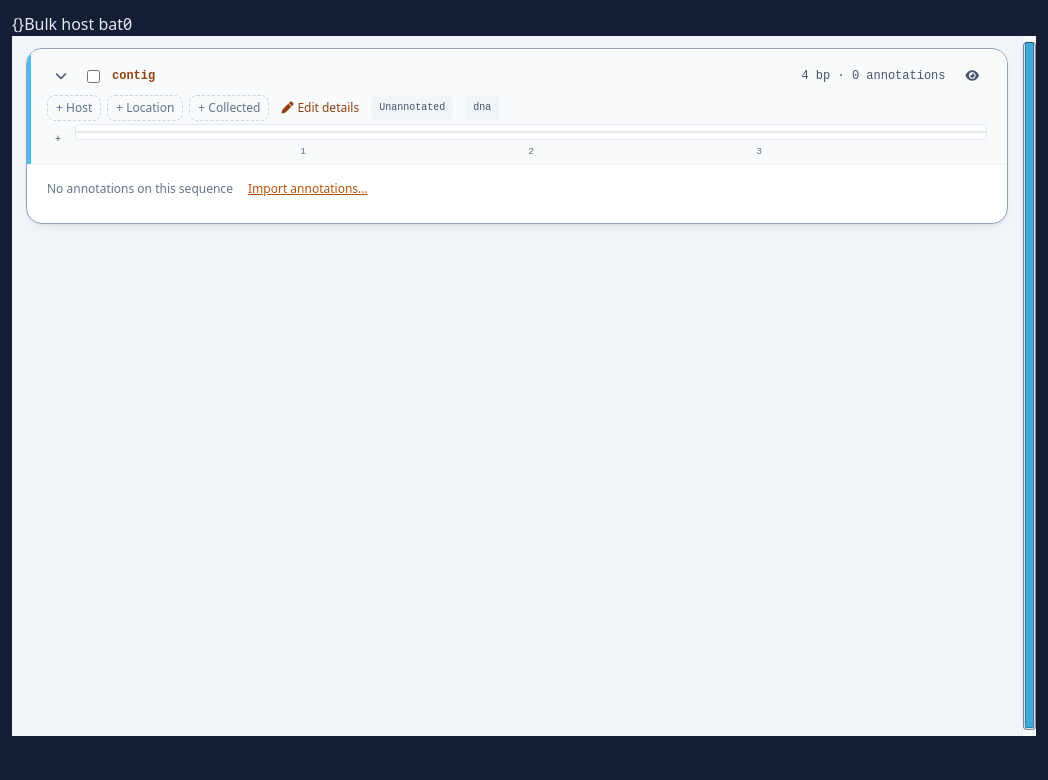
it: sequence details editing › saves an invalid edited date and displays its warning in the editor and details line
Click the button "Edit details". click: (320, 108)
box: [281,96,359,120]
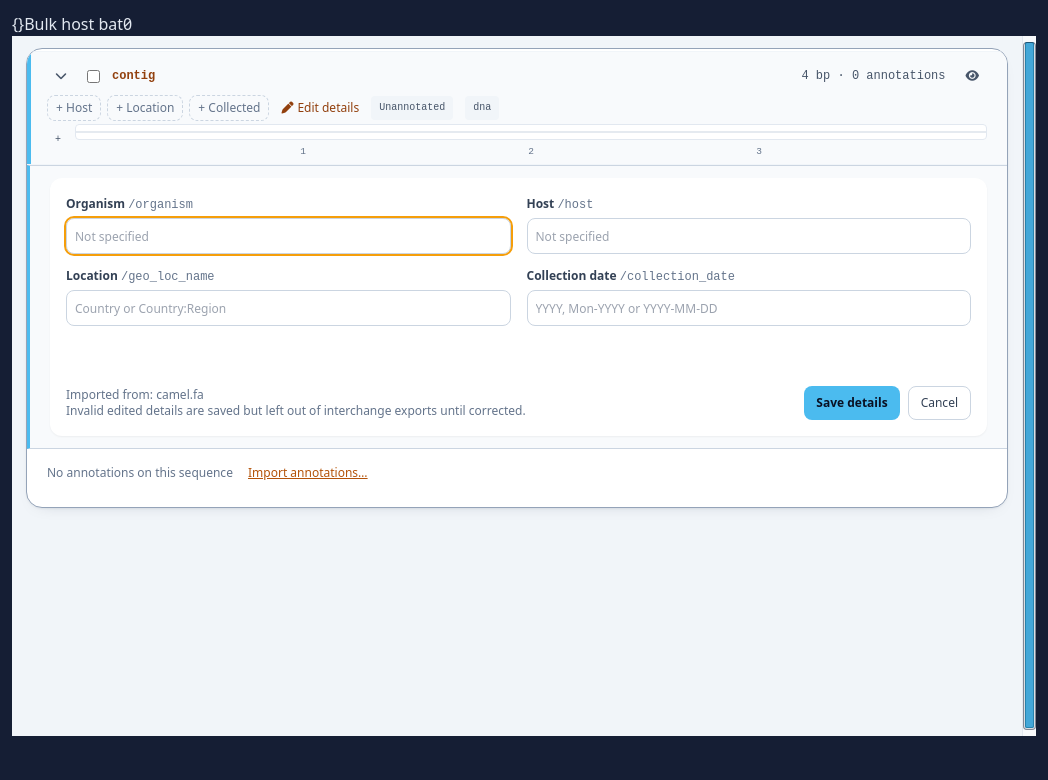
Type "March 2014" into the field labelled "Collection date". click: (749, 308)
box: [526,290,971,326]
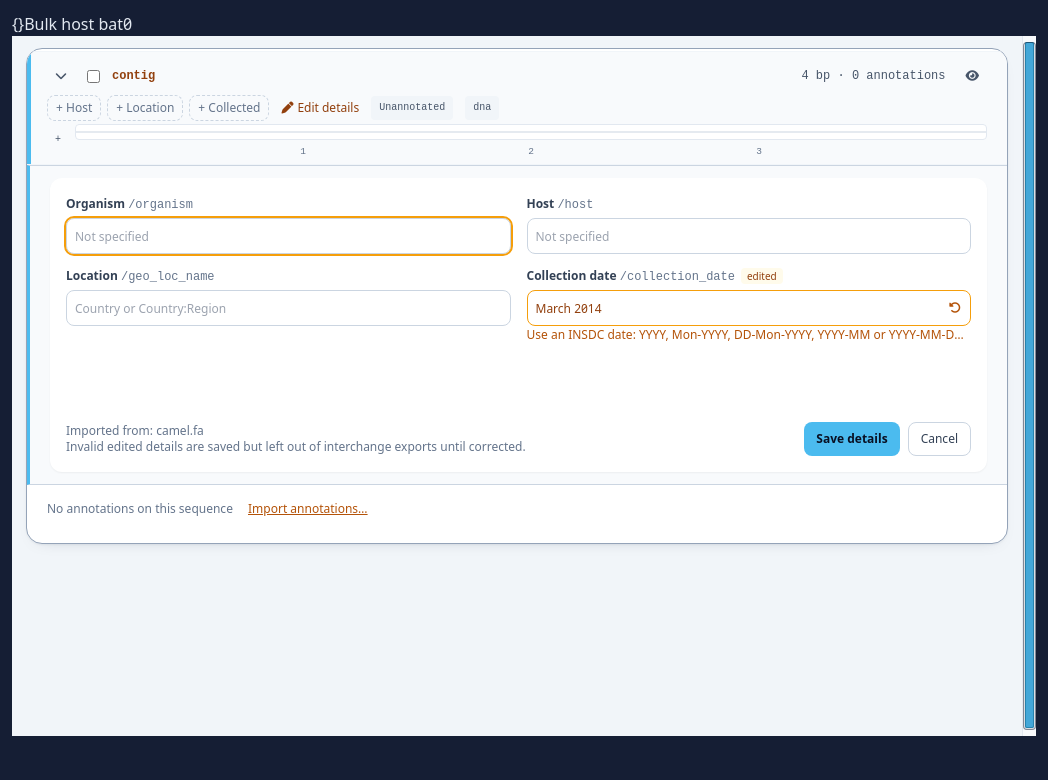
expect the button "Save details" is enabled: met
expect the text "Use an INSDC date: YYYY, Mon-YYYY, DD-Mon-YYYY, YYYY-MM or YYYY-MM-DD, optionally with a UTC time." is shown: met, box [526,326,1008,343]
Click the button "Save details". click: (852, 439)
box: [804,422,900,456]
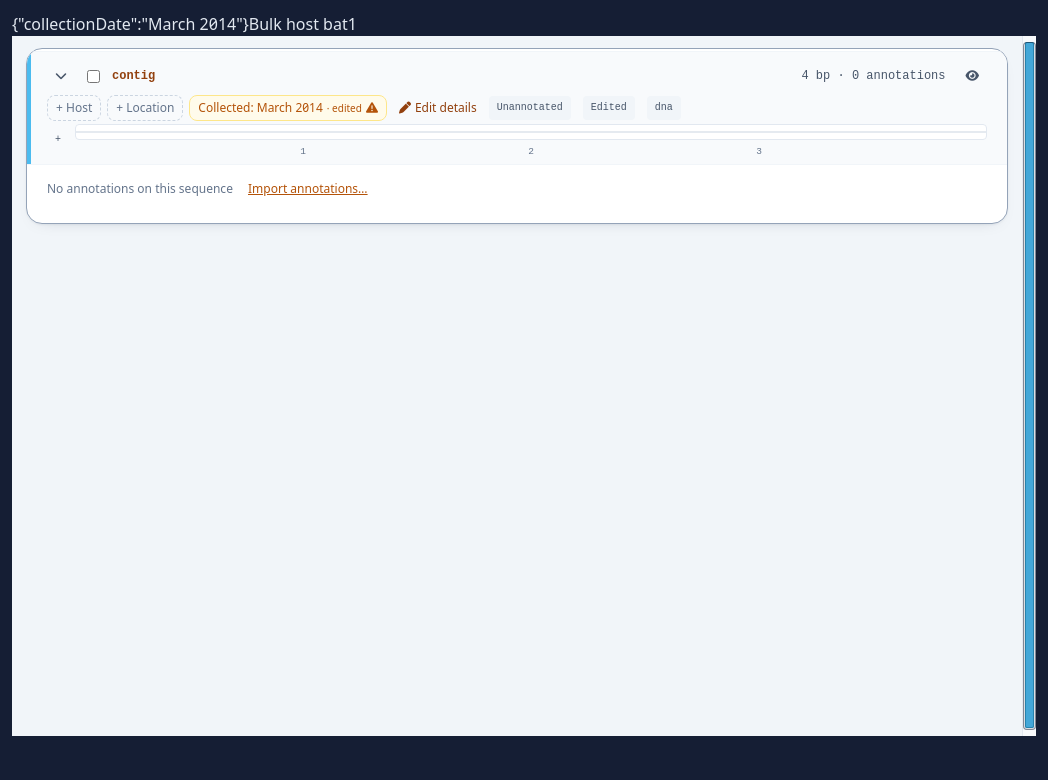
expect the text named "Saved details" reads "{\"collectionDate\":\"March 2014\"}": met, box [12,13,249,35]
expect the text "· edited" is shown: met, box [327,101,362,115]
expect the element titled "Use an INSDC date: YYYY, Mon-YYYY, DD-Mon-YYYY, YYYY-MM or YYYY-MM-DD, optionally with a UTC time." is shown: met, box [198,99,323,116]
